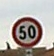limite 50: (11, 15, 42, 46)
